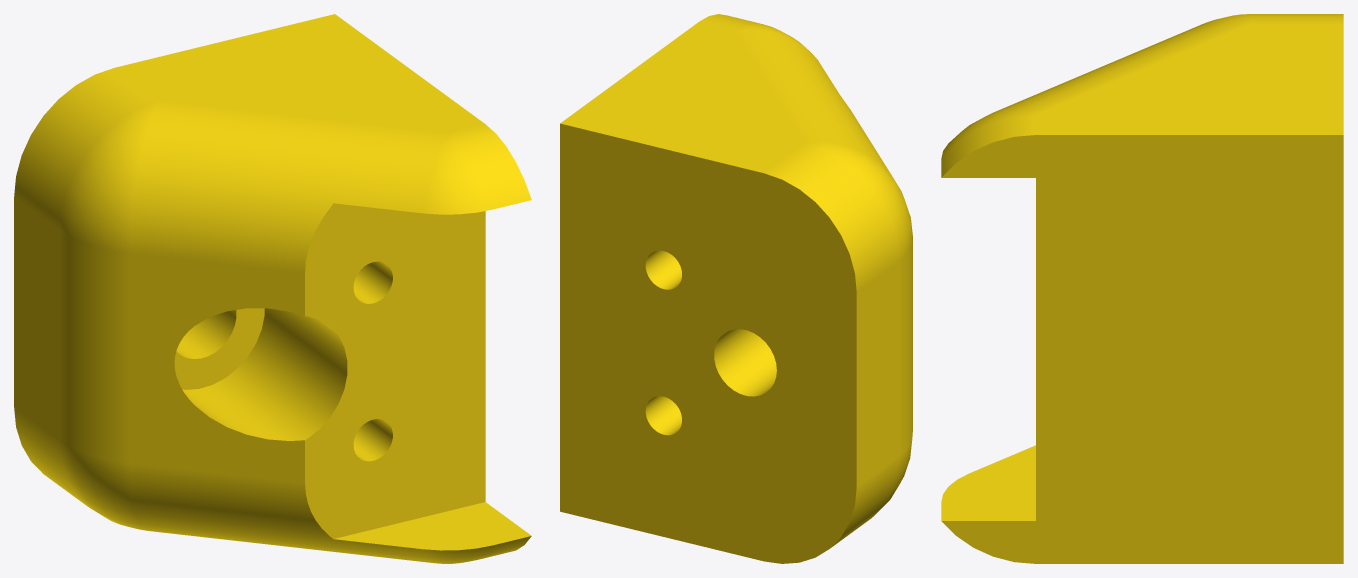
Rendered from A26_S111_railEndstop.gltf.
The picture shows the model from 3 angles, left to right: view 1: azimuth 30°, elevation 25°; view 2: azimuth 150°, elevation 25°; view 3: azimuth 270°, elevation 25°; orthographic projection. The views are drawn at different scales.
Parts seen in each view (by area): view 1: mesh34472, mesh34467, mesh34465, mesh34453, mesh34454, mesh34460, mesh34452, mesh34456, mesh34459, mesh34457, mesh34463, mesh34455 (+8 smaller); view 2: mesh34471, mesh34465, mesh34456, mesh34459, mesh34467, mesh34450, mesh34457, mesh34454, mesh34458, mesh34473, mesh34474, mesh34469 (+1 smaller); view 3: mesh34466, mesh34465, mesh34463, mesh34467, mesh34469, mesh34459, mesh34470.
Boxes of the visible parts, bbox=[...] form: mesh34472: bbox=[305, 203, 485, 538]; mesh34467: bbox=[130, 101, 446, 272]; mesh34465: bbox=[114, 14, 485, 133]; mesh34453: bbox=[130, 253, 304, 482]; mesh34454: bbox=[59, 231, 129, 463]; mesh34460: bbox=[130, 463, 432, 562]; mesh34452: bbox=[182, 308, 347, 440]; mesh34456: bbox=[14, 197, 59, 439]; mesh34459: bbox=[14, 68, 159, 230]; mesh34457: bbox=[59, 101, 159, 253]; mesh34463: bbox=[334, 502, 531, 550]; mesh34455: bbox=[59, 441, 147, 530]; mesh34471: bbox=[560, 123, 856, 563]; mesh34465: bbox=[560, 21, 805, 172]; mesh34456: bbox=[856, 262, 898, 486]; mesh34459: bbox=[764, 142, 898, 292]; mesh34467: bbox=[735, 30, 891, 175]; mesh34450: bbox=[714, 329, 776, 396]; mesh34457: bbox=[806, 142, 912, 261]; mesh34454: bbox=[899, 238, 912, 455]; mesh34458: bbox=[830, 456, 898, 548]; mesh34473: bbox=[645, 396, 681, 435]; mesh34474: bbox=[645, 250, 681, 289]; mesh34469: bbox=[699, 14, 759, 30]; mesh34466: bbox=[941, 135, 1343, 563]; mesh34465: bbox=[1036, 25, 1343, 134]; mesh34463: bbox=[941, 445, 1035, 520]; mesh34467: bbox=[993, 19, 1249, 115]; mesh34469: bbox=[941, 115, 1035, 177]; mesh34459: bbox=[1250, 14, 1343, 24]; mesh34470: bbox=[941, 110, 1034, 157].
Size of the model in its own units: 0.0203 by 0.0254 by 0.0216.
